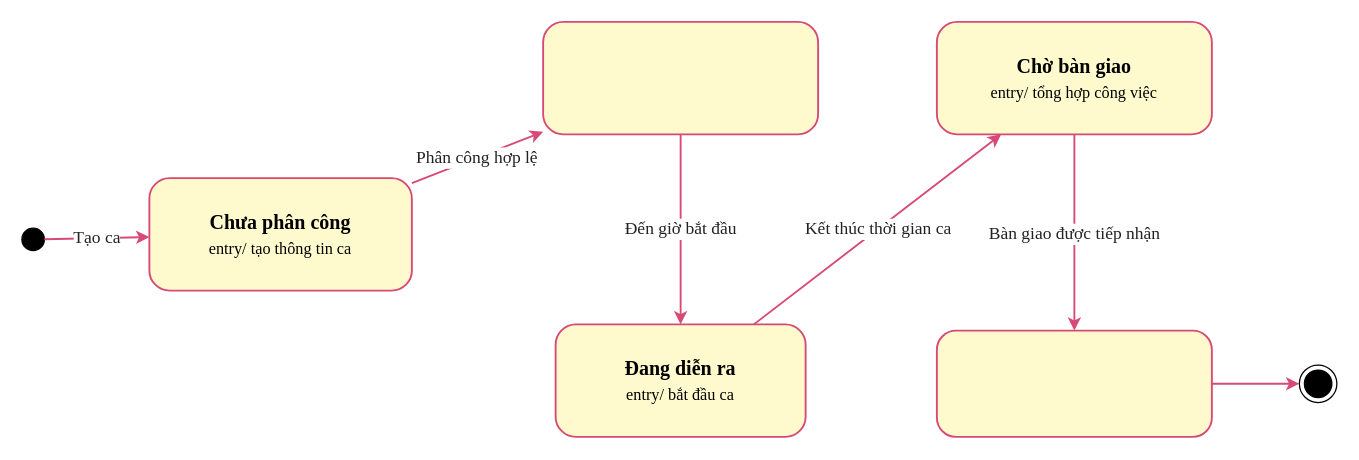
Some shapes in this 1359 by 460 pixel diagram are drawn without their labels. The shapes that lost their labels are listed below. From the top down, each one's centre as x and y in pixels, then its label:
At [680,77]: "Đã phân công entry/ xác nhận đủ 4 vị trí".
At [1073,383]: "Đã kết thúc entry/ ghi nhận hoàn tất".
